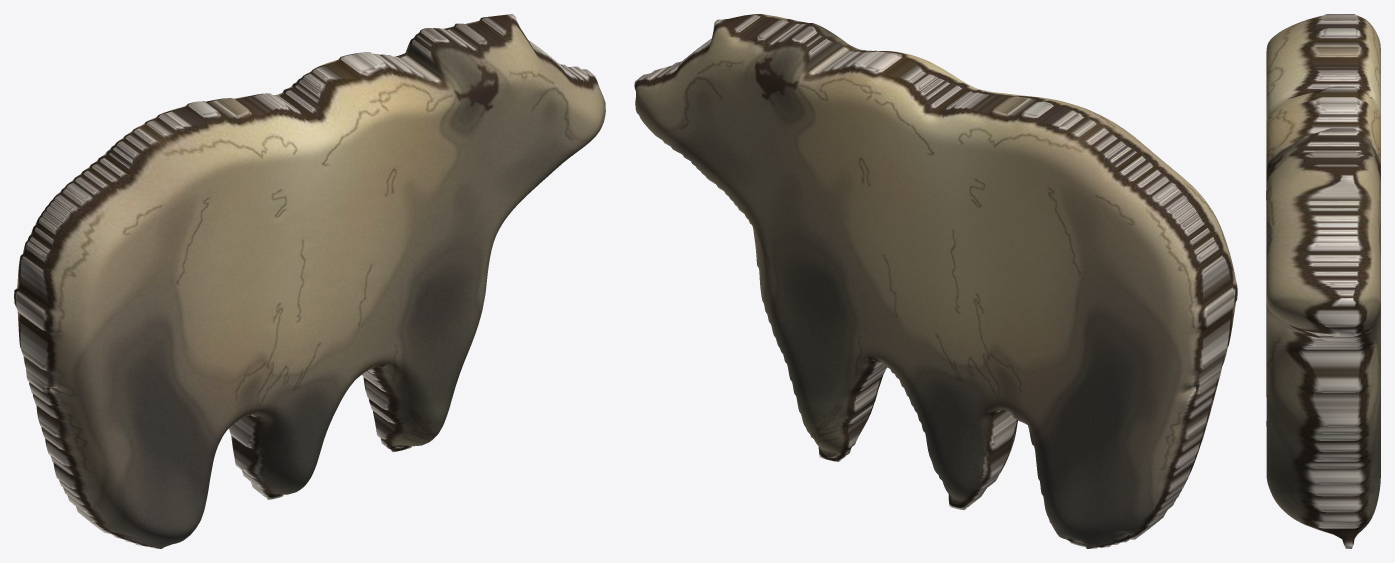
The model's file is brown_bear_24160860.glb.
3 renders of one model, left to right at view 1: azimuth 30°, elevation 25°; view 2: azimuth 150°, elevation 25°; view 3: azimuth 270°, elevation 25°, orthographic. The views are drawn at different scales.
Visible parts, largest first — view 1: brown_bear_24160860; view 2: brown_bear_24160860; view 3: brown_bear_24160860.
Boxes of the visible parts, <box> form: brown_bear_24160860: <box>14,14,605,548</box>; brown_bear_24160860: <box>634,14,1237,548</box>; brown_bear_24160860: <box>1266,14,1380,548</box>.
Bounding box in the file's own units: 1.97 × 1.42 × 0.3284.
1 material, 1 textured.
